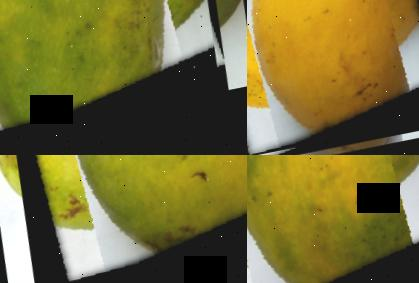PartiallyRipe: (0, 0, 231, 154), (2, 155, 247, 283), (247, 155, 419, 283)
Ripe: (247, 0, 419, 155)
